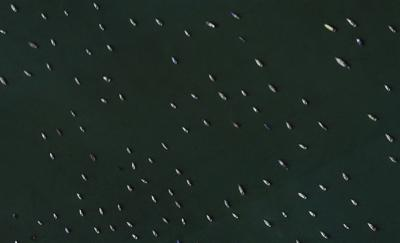Ships: (237, 181, 251, 202), (100, 71, 112, 91), (70, 74, 80, 91), (27, 35, 37, 51), (178, 121, 190, 134), (167, 97, 176, 112)
